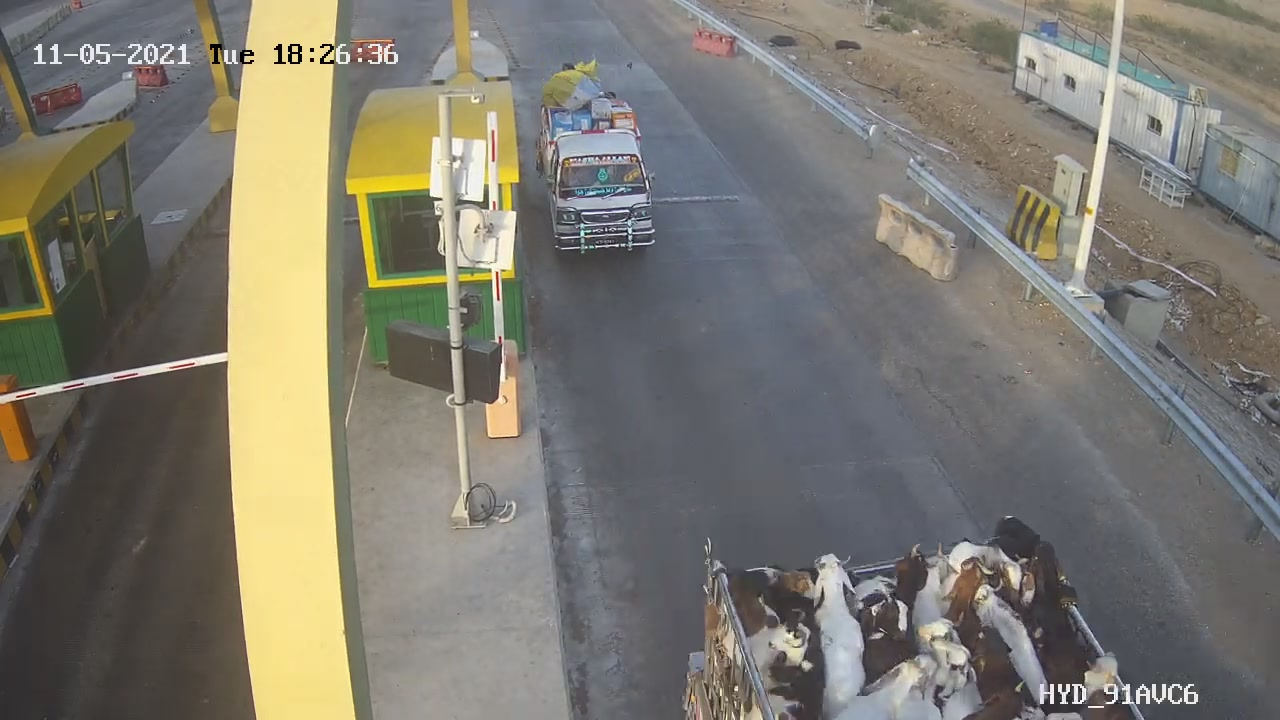F1: (527, 67, 670, 265)
